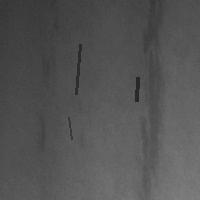inclusion: (136, 1, 171, 199), (38, 52, 59, 86), (33, 115, 51, 152), (74, 42, 82, 96), (66, 115, 73, 141), (134, 75, 139, 103)
